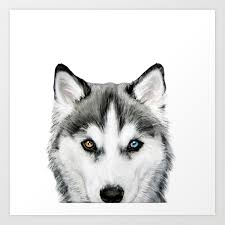Siberian Husky: (38, 45, 185, 203)
